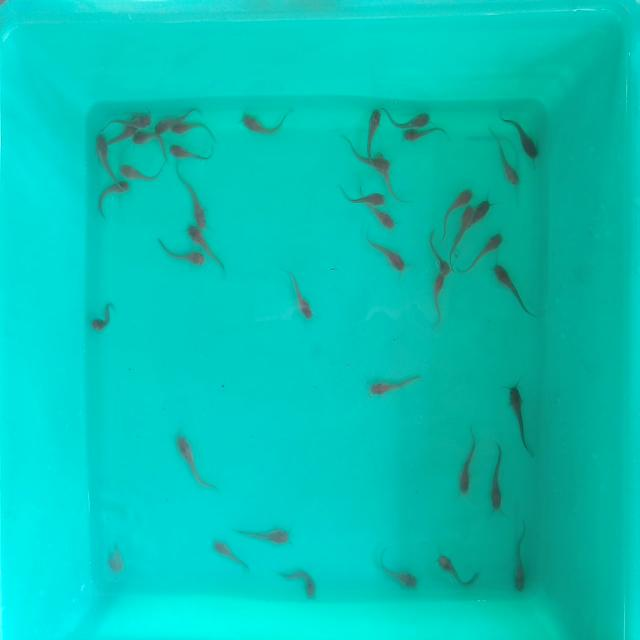lele: (493, 262, 539, 320), (500, 112, 544, 165), (178, 438, 220, 492), (374, 548, 420, 596), (486, 124, 521, 185), (284, 267, 322, 323), (361, 229, 409, 273), (175, 168, 207, 224), (435, 553, 479, 591), (509, 384, 533, 453), (209, 538, 253, 574), (368, 369, 422, 398), (228, 522, 288, 546), (455, 433, 478, 493), (379, 165, 411, 203), (243, 112, 295, 135), (97, 181, 130, 217), (468, 233, 504, 264), (453, 207, 473, 258), (489, 443, 504, 509), (290, 567, 318, 602), (512, 530, 528, 590), (173, 119, 226, 135), (172, 141, 214, 161), (404, 126, 448, 145), (120, 162, 158, 184), (340, 152, 392, 168), (364, 106, 382, 152), (183, 225, 215, 250), (443, 183, 475, 208), (163, 251, 207, 269), (94, 135, 112, 179), (433, 276, 447, 330), (89, 302, 116, 329), (339, 191, 385, 206), (365, 208, 401, 227), (430, 238, 449, 274), (108, 542, 129, 574), (404, 111, 435, 131), (108, 115, 155, 127), (475, 197, 490, 226), (110, 127, 136, 143), (132, 132, 159, 146), (155, 116, 174, 135)
